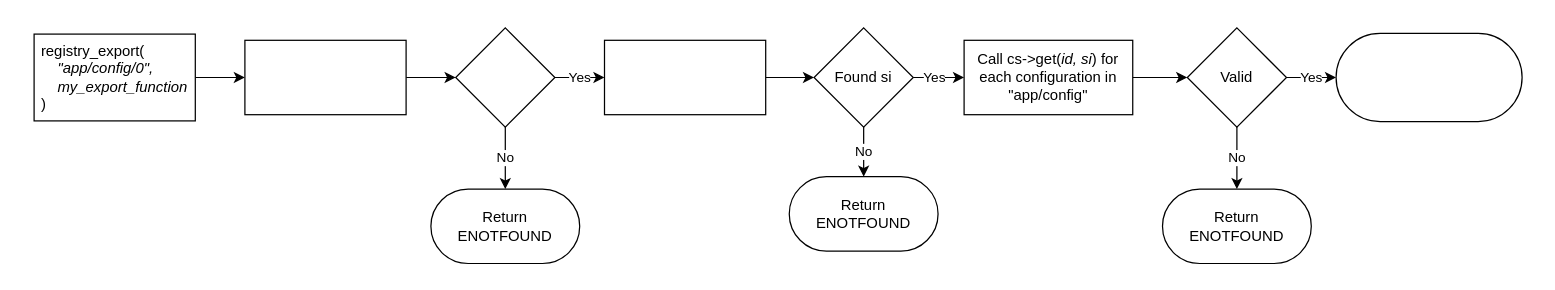
The diagram is 1555 pixels wide and 290 high, and some of its shapes have lost their labels. Here are the shapes that lost their labels. From the top down, the box of each, then its label:
(244, 39, 406, 115): Search for "config" configuration schema in "app" root group
(454, 27, 555, 127): Found cs
(603, 39, 766, 115): Search for "0" schema instance
(1335, 32, 1522, 122): Call my_export_function on each configuration in "app/config"
